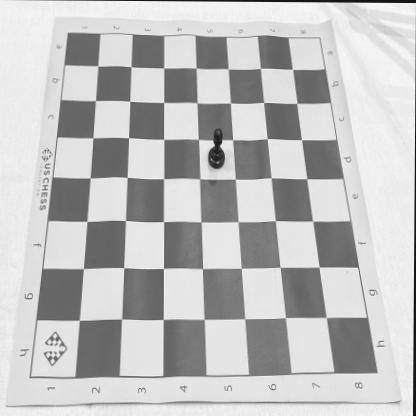black-pawn: (208, 128, 226, 170)
